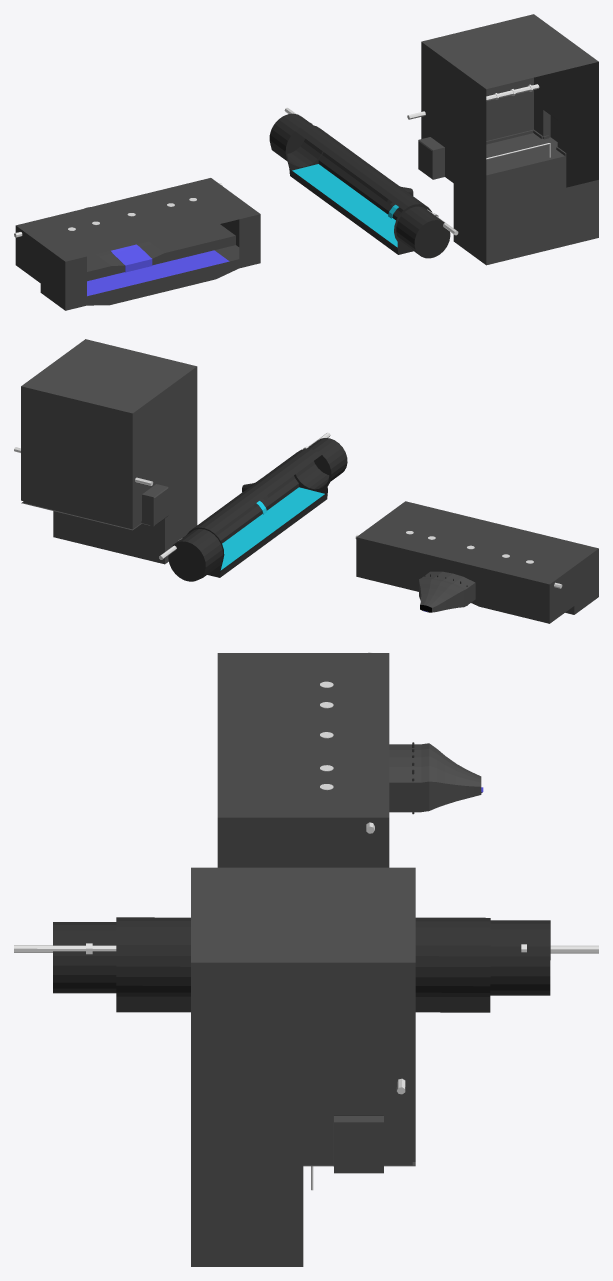
File: NiveauEau.fbx
3 views of the same model, one above another, from view 1: azimuth 30°, elevation 25°; view 2: azimuth 150°, elevation 25°; view 3: azimuth 270°, elevation 25° (orthographic). The views are drawn at different scales.
Parts seen in each view (by area): view 1: EV3, EV1, EV2, EV3_Pipes; view 2: EV3, EV1, EV2; view 3: EV3, EV1, EV2, EV2_Pipes.
Part boxes in pixels (<box>): EV3: <box>418,14,598,265</box>; EV1: <box>15,178,260,310</box>; EV2: <box>269,113,450,258</box>; EV3_Pipes: <box>407,84,539,119</box>; EV3: <box>21,339,197,564</box>; EV1: <box>356,501,598,623</box>; EV2: <box>168,438,347,581</box>; EV3: <box>191,867,415,1266</box>; EV1: <box>217,653,483,867</box>; EV2: <box>53,917,550,1012</box>; EV2_Pipes: <box>14,943,598,954</box>.
Bounding box in the file's own units: 8282 × 2571 × 4481.
